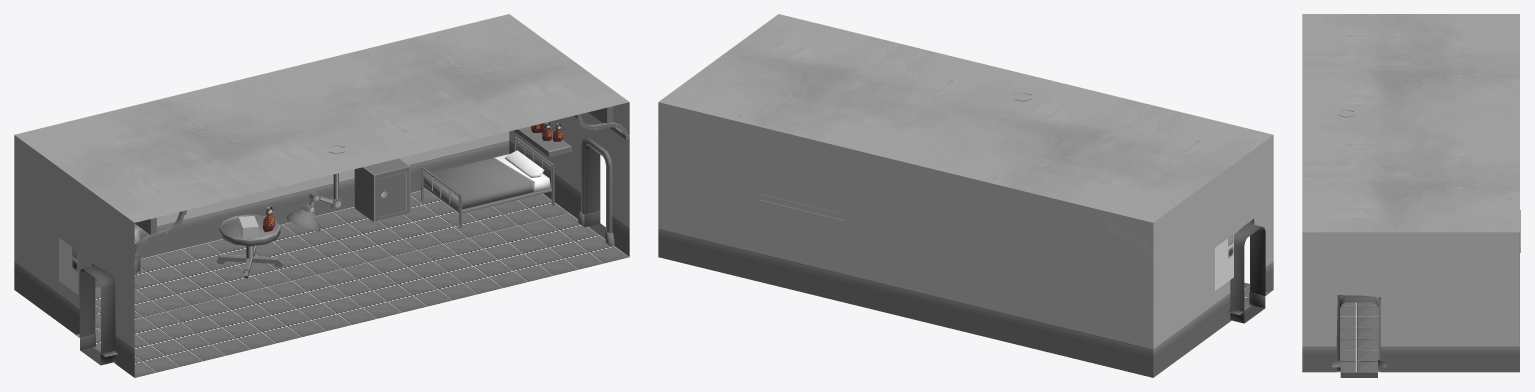
Rendered from MSH_Med_room_L1_R2_optimized.fbx.
3 renders of one model, left to right at view 1: azimuth 30°, elevation 25°; view 2: azimuth 150°, elevation 25°; view 3: azimuth 270°, elevation 25°, orthographic. The views are drawn at different scales.
Parts seen in each view (by area): view 1: lightmap1, lightmap0, lightmap-1; view 2: lightmap1, lightmap-1, lightmap0; view 3: lightmap1, lightmap-1.
Part boxes in pixels (bbox=[...]): lightmap1: bbox=[14, 14, 629, 377]; lightmap0: bbox=[59, 122, 571, 294]; lightmap-1: bbox=[79, 145, 605, 365]; lightmap1: bbox=[658, 14, 1273, 377]; lightmap-1: bbox=[1230, 223, 1265, 323]; lightmap0: bbox=[760, 93, 1233, 290]; lightmap1: bbox=[1302, 14, 1519, 372]; lightmap-1: bbox=[1340, 295, 1378, 377].
Size of the model in its own units: 20.61 by 5.96 by 8.29.
